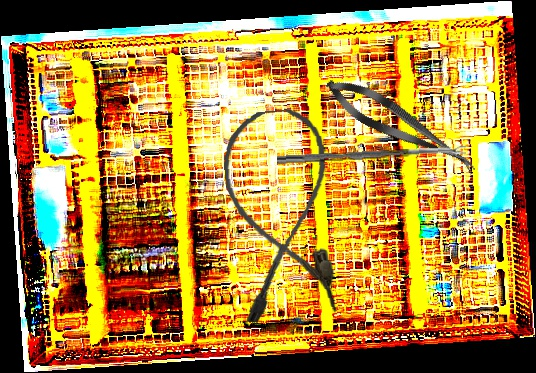Cannula: (218, 105, 342, 324)
Micro Scissor: (318, 68, 485, 184)
Surgical Spoon: (276, 146, 467, 165)
